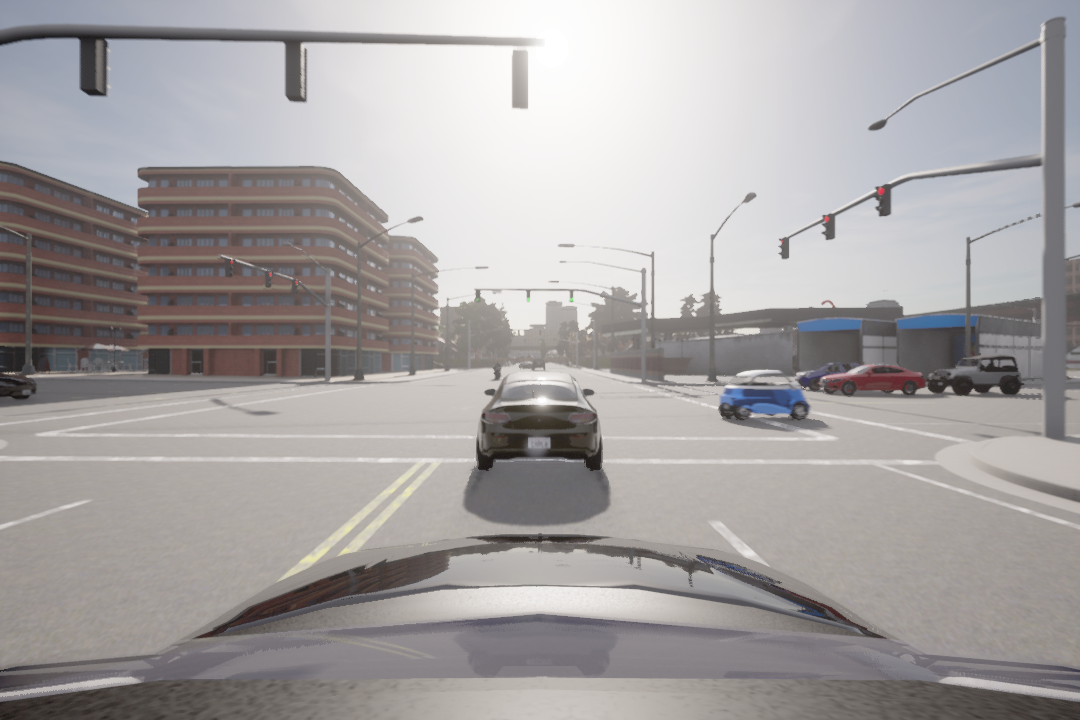TrafficLight: (875, 184, 891, 222), (821, 212, 836, 244), (777, 236, 791, 261), (224, 255, 235, 279), (261, 270, 274, 290), (288, 276, 298, 295), (525, 287, 532, 303), (567, 289, 574, 303), (474, 289, 480, 304)
